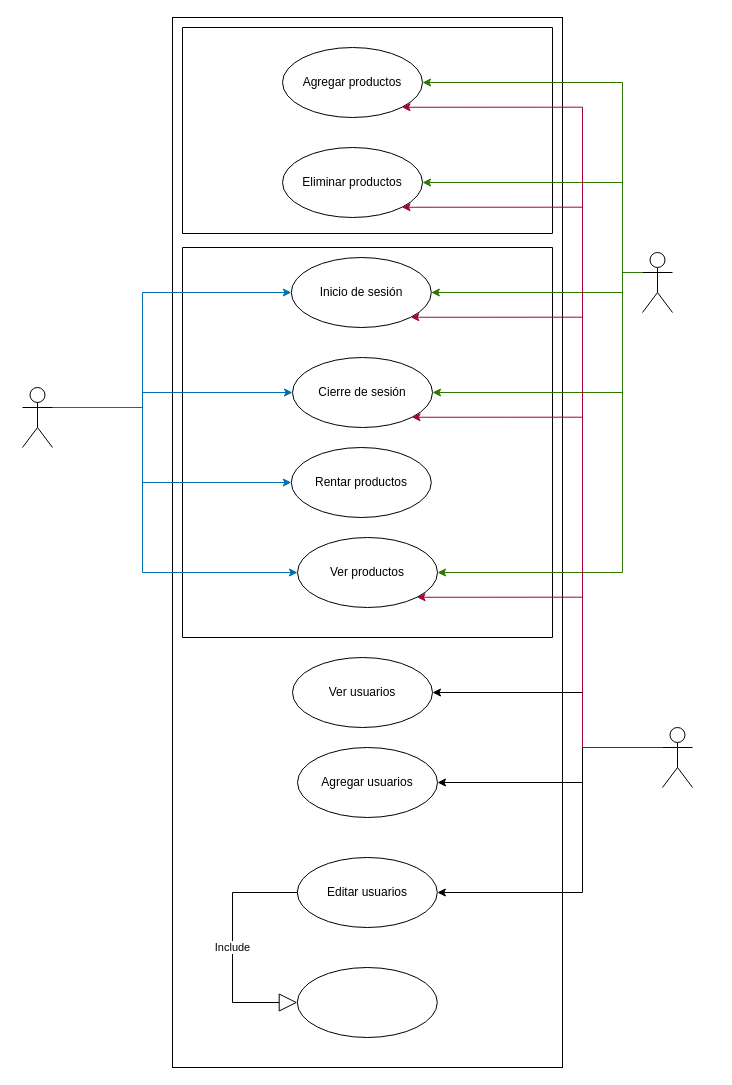
The diagram is 732 pixels wide and 1085 high, and some of its shapes have lost their labels. Each missing label, with the box of its shape:
Administrador: (662, 726, 692, 788)
Proveedor: (642, 252, 672, 312)
Sumar puma puntos: (296, 966, 437, 1038)
Usuario: (22, 386, 52, 448)
